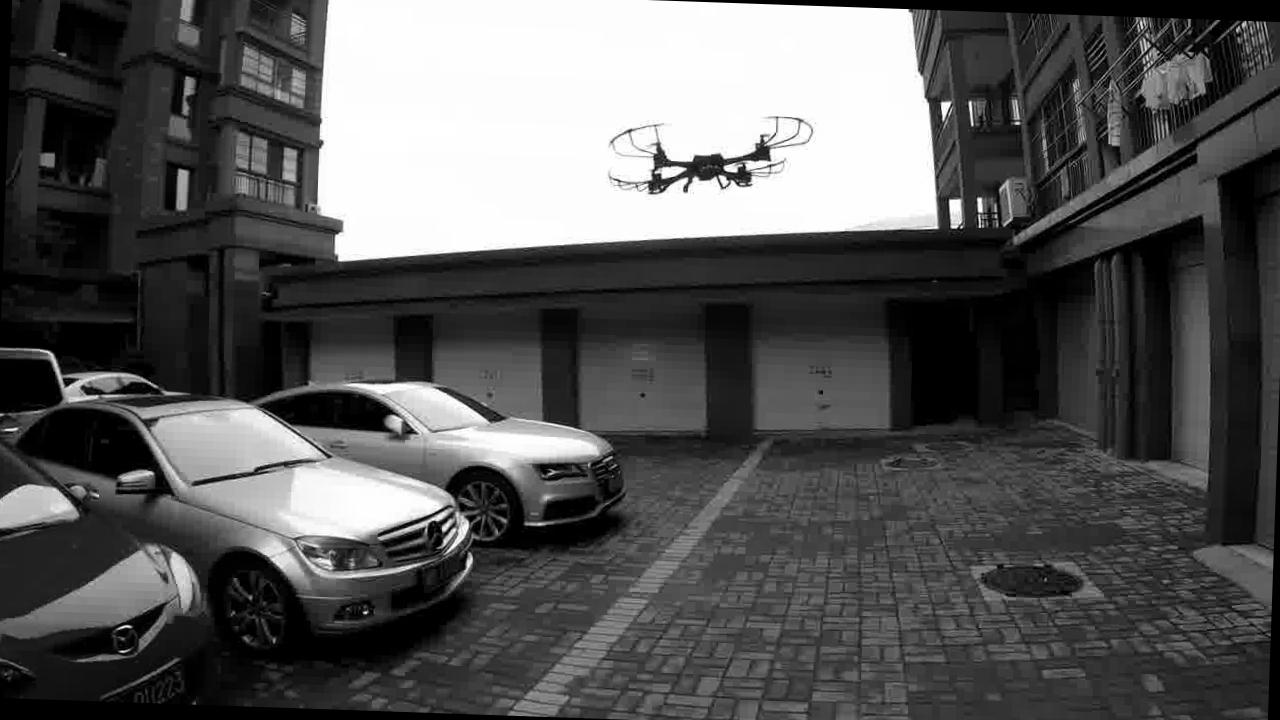drone: (573, 92, 831, 214)
